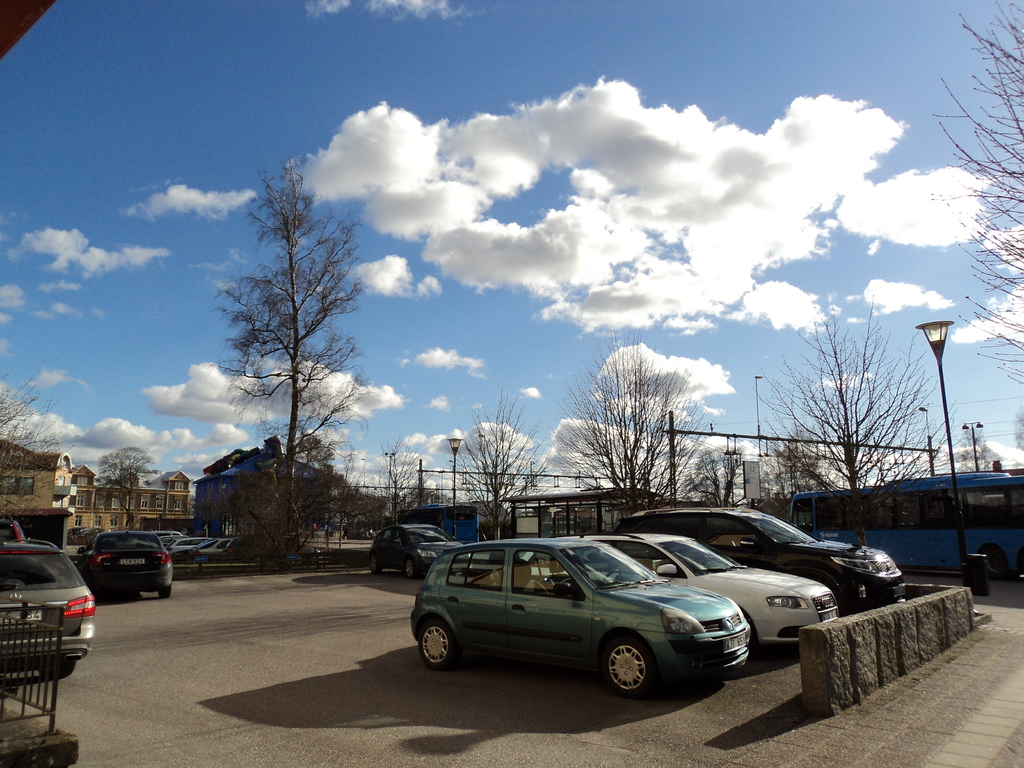Car: (398, 536, 760, 707), (611, 506, 900, 611), (584, 536, 842, 643), (0, 536, 96, 674), (78, 531, 171, 595), (366, 522, 471, 574), (156, 530, 240, 560), (65, 526, 97, 550), (0, 518, 27, 540)
